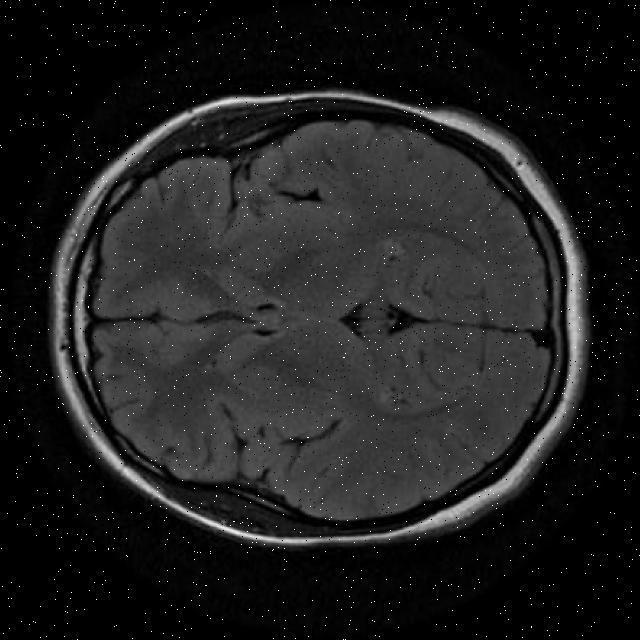No_Tumor: (51, 91, 588, 546)
